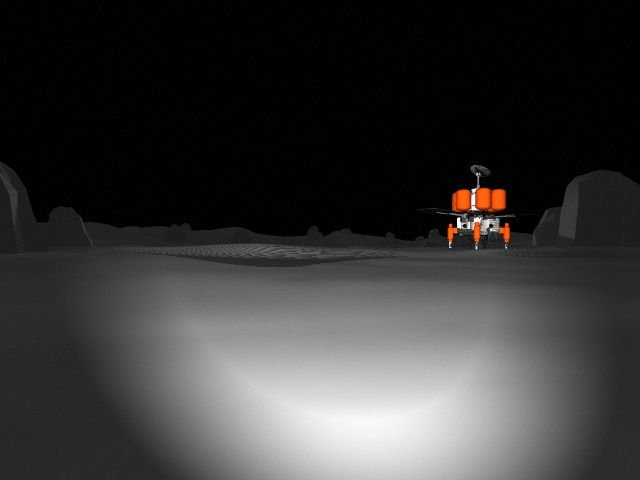homebase: (412, 164, 529, 252)
